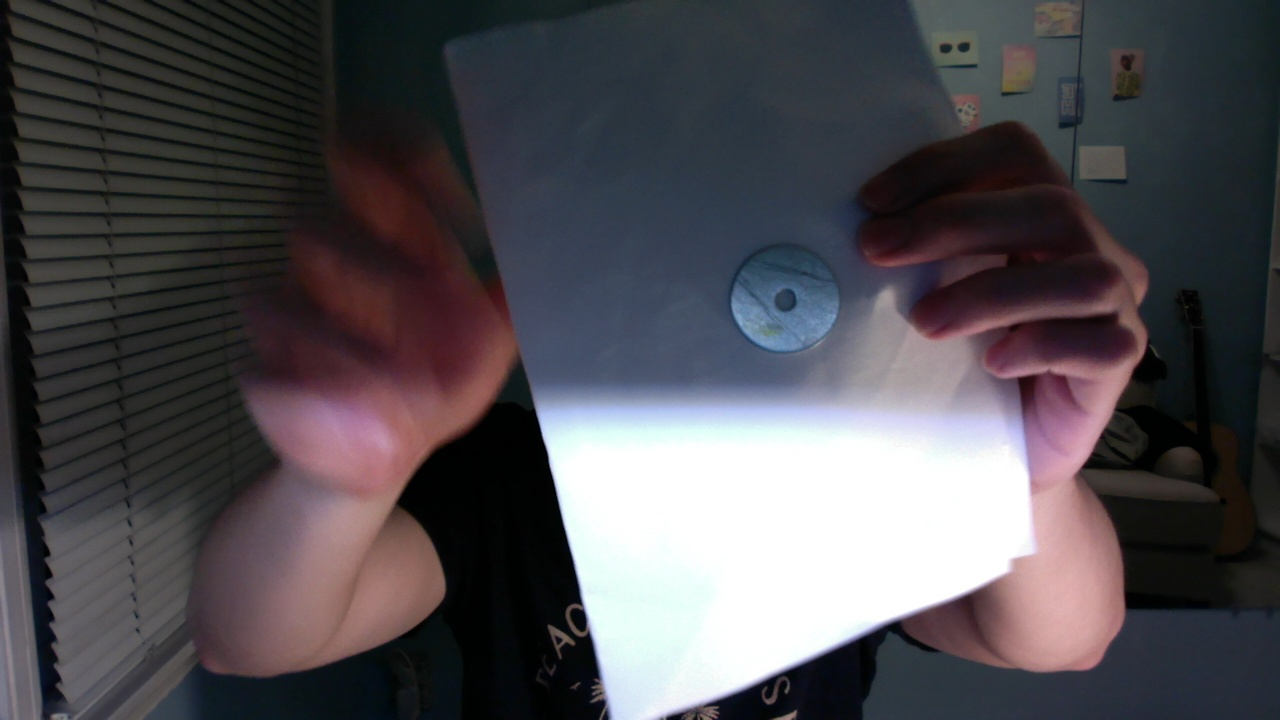DetectiveWashers: (732, 256, 842, 349)
